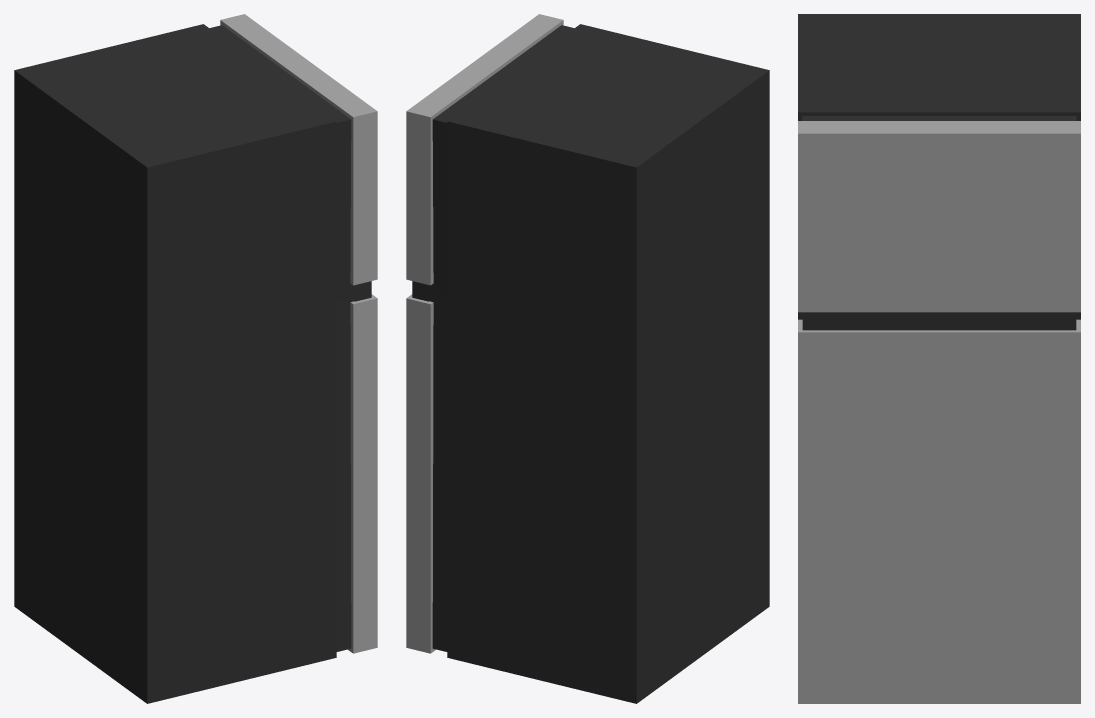
File: SM_Refrigerator.fbx
3 renders of one model, left to right at view 1: azimuth 30°, elevation 25°; view 2: azimuth 150°, elevation 25°; view 3: azimuth 270°, elevation 25°, orthographic. The views are drawn at different scales.
Visible parts, largest first — view 1: Refrigerator; view 2: Refrigerator; view 3: Refrigerator.
Boxes of the visible parts, x1,y1,x2,y2 form: Refrigerator: (14,14,377,703); Refrigerator: (406,14,769,703); Refrigerator: (798,14,1080,703).
Bounding box in the file's own units: 0.8054 × 1.79 × 0.8054.
Materials: 1 (1 with a texture image).
